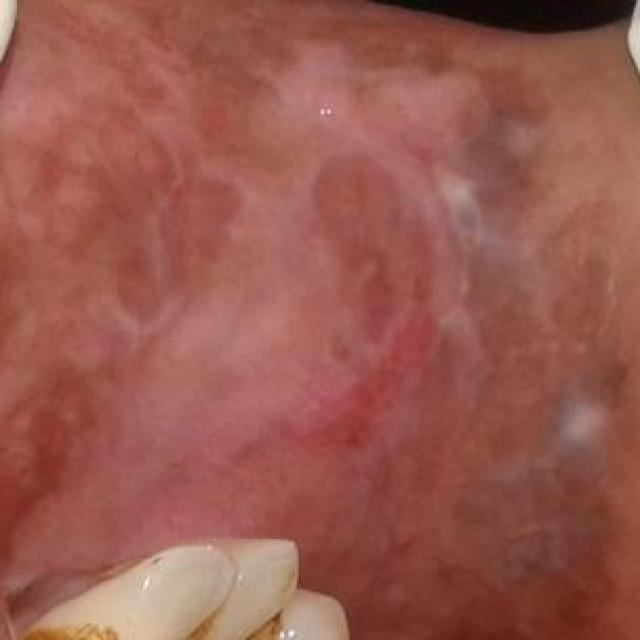leukoplakia-like-detection: (414, 159, 492, 375), (567, 380, 618, 454)
processing_area: (4, 1, 638, 635)
